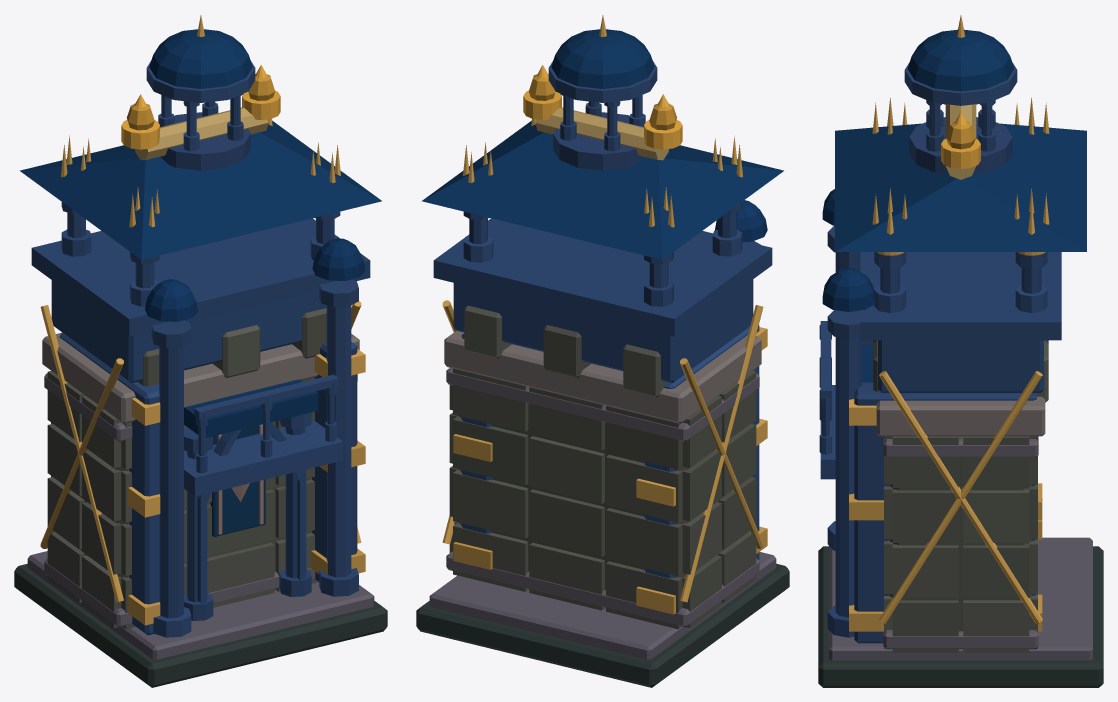
The picture shows the model from 3 angles, left to right: view 1: azimuth 30°, elevation 25°; view 2: azimuth 150°, elevation 25°; view 3: azimuth 270°, elevation 25°; orthographic projection. The views are drawn at different scales.
Parts seen in each view (by area): view 1: wall_L10_0, wall_L10_1; view 2: wall_L10_0, wall_L10_1; view 3: wall_L10_0, wall_L10_1.
Part boxes in pixels (x1=…): wall_L10_0: x1=14, y1=29, x2=387, y2=687; wall_L10_1: x1=40, y1=15, x2=365, y2=625; wall_L10_0: x1=416, y1=29, x2=789, y2=687; wall_L10_1: x1=442, y1=15, x2=767, y2=614; wall_L10_0: x1=818, y1=29, x2=1103, y2=687; wall_L10_1: x1=849, y1=15, x2=1049, y2=631.
Size of the model in its own units: 1.9 by 4.43 by 1.86.
